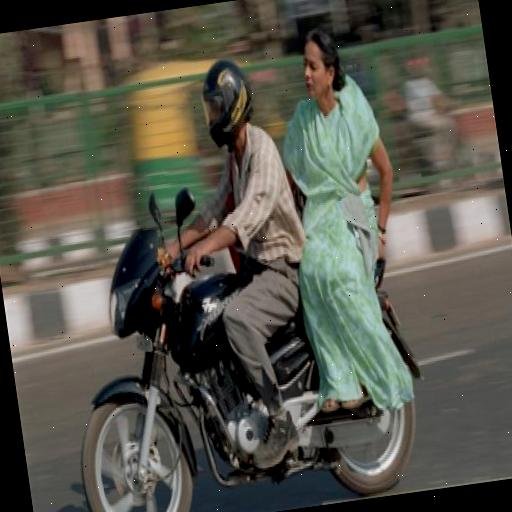helmet: (36, 31, 342, 512)
